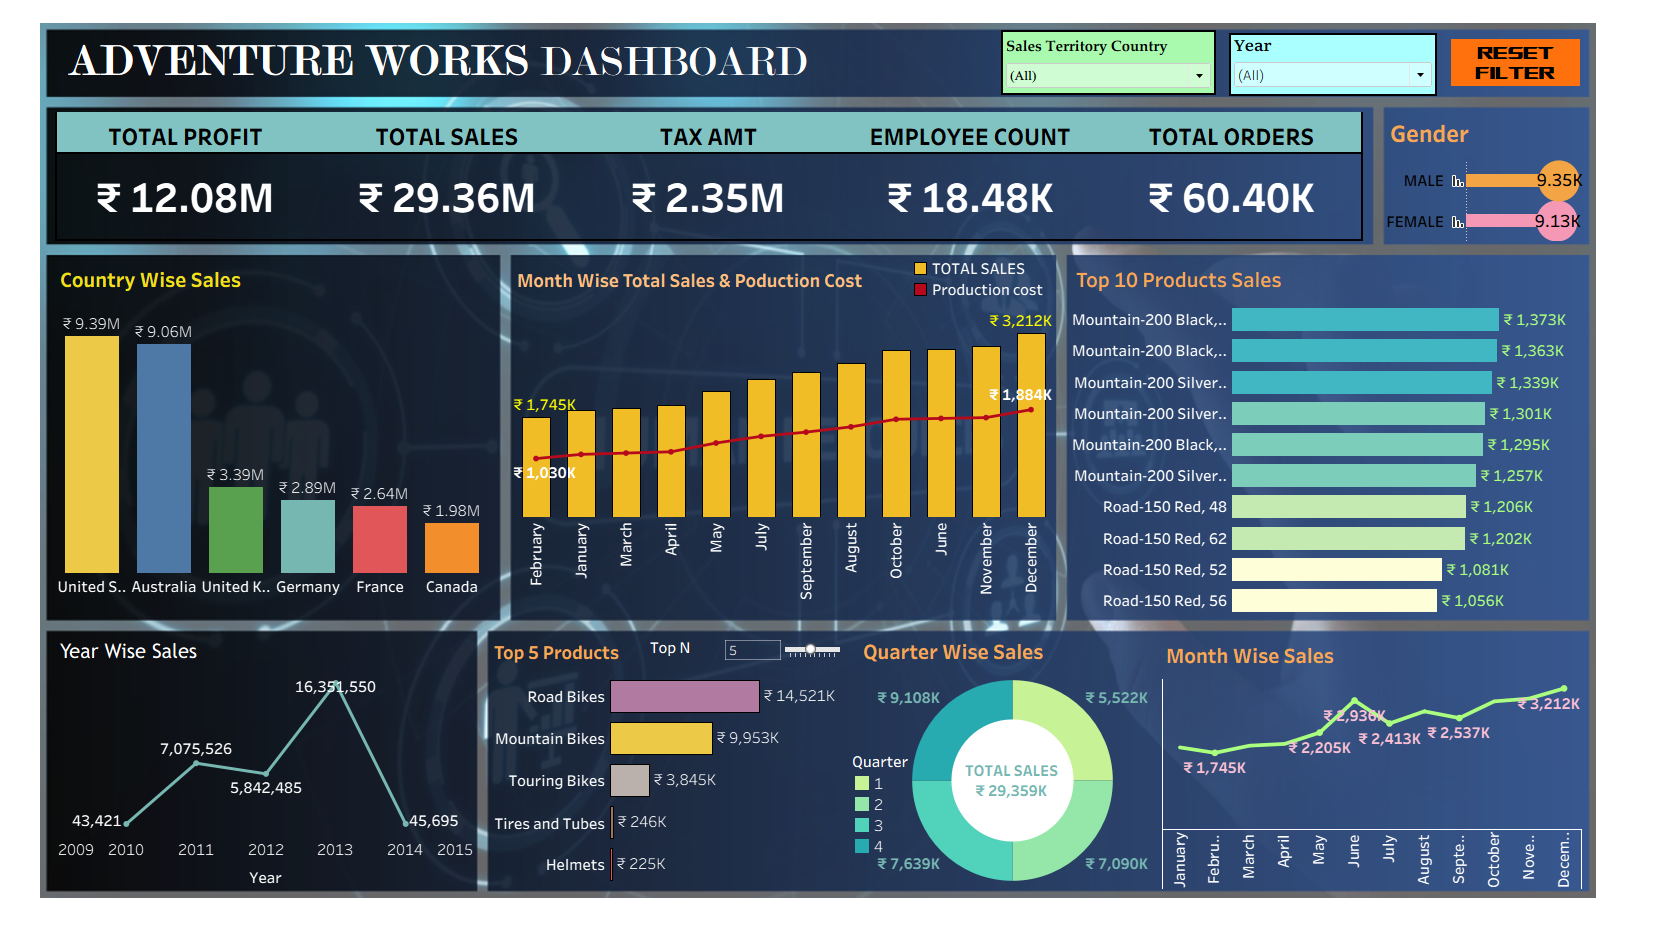

The dashboard page shown, as its layout file describes it:
{"tool":"tableau","page":{"name":"DASHBOARD ","canvas":[1580,900],"ordinal":0},"visuals":[{"type":"image","param":"Image/HRB background.pptx.png","box":[8,8,1564,884]},{"type":"filter","title":"Sheet 3","param":"[federated.199qoxv1eyxjs612688t40wgwc35].[none:SalesTerritoryCountry:nk]","box":[973,19,215,65]},{"type":"filter","title":"Sheet 3","param":"[federated.199qoxv1eyxjs612688t40wgwc35].[none:Year:ok]","box":[1201,22,208,63]},{"type":"text","box":[36,28,866,45]},{"type":"worksheet","title":"Sheet 18","mark":"Automatic","box":[1423,28,129,47]},{"type":"worksheet","title":"Sheet 15","mark":"Automatic","box":[26,100,1309,130]},{"type":"worksheet","title":"Sheet 16","mark":"Automatic","rows":["Gender"],"cols":["Gender","Gender"],"box":[1358,102,199,128]},{"type":"legend","title":"Sheet 9","param":"[federated.199qoxv1eyxjs612688t40wgwc35].[:Measure Names]","box":[882,247,143,50]},{"type":"worksheet","title":"Sheet 3","mark":"Automatic","rows":["Sales"],"cols":["SalesTerritoryCountry"],"box":[28,250,433,353]},{"type":"worksheet","title":"Sheet 6","mark":"Automatic","rows":["EnglishProductName"],"cols":["Sales"],"box":[1044,250,511,355]},{"type":"worksheet","title":"Sheet 9","mark":"Bar","rows":["Sales","Production cost"],"cols":["Month Name"],"box":[485,252,541,355]},{"type":"worksheet","title":"Sheet 17","mark":"Pie","rows":["Calculation_1315051127654379521","Calculation_1315051127654395907"],"box":[831,622,307,253]},{"type":"worksheet","title":"Sheet 7","mark":"Automatic","rows":["Sales"],"cols":["Year"],"box":[28,624,419,260]},{"type":"worksheet","title":"Sheet 8","mark":"Automatic","rows":["DimProdSubCategory.EnglishProductSubcategoryName"],"cols":["Sales"],"box":[462,624,356,251]},{"type":"parameter","param":"[Parameters].[Parameter 1]","box":[622,626,193,32]},{"type":"worksheet","title":"Sheet 1","mark":"Line","rows":["Sales"],"cols":["Month Name"],"box":[1134,626,420,253]},{"type":"legend","title":"Sheet 17","param":"[federated.199qoxv1eyxjs612688t40wgwc35].[none:Quarter:ok]","box":[824,740,70,106]}]}

Visuals, with their boxes in screenshot pixels (x1, y1, x2, y2), scaled from the page's 1580x900 canvas onto the 1658x931 screenshot:
image: select_region(8, 8, 1650, 923)
"Sheet 3" filter: select_region(1021, 20, 1247, 87)
"Sheet 3" filter: select_region(1260, 23, 1479, 88)
text: select_region(38, 29, 947, 76)
"Sheet 18" worksheet: select_region(1493, 29, 1629, 78)
"Sheet 15" worksheet: select_region(27, 103, 1401, 238)
"Sheet 16" worksheet: select_region(1425, 106, 1634, 238)
"Sheet 9" legend: select_region(926, 256, 1076, 307)
"Sheet 3" worksheet: select_region(29, 259, 484, 624)
"Sheet 6" worksheet: select_region(1096, 259, 1632, 626)
"Sheet 9" worksheet (Bar marks): select_region(509, 261, 1077, 628)
"Sheet 17" worksheet (Pie marks): select_region(872, 643, 1194, 905)
"Sheet 7" worksheet: select_region(29, 645, 469, 914)
"Sheet 8" worksheet: select_region(485, 645, 858, 905)
parameter: select_region(653, 648, 855, 681)
"Sheet 1" worksheet (Line marks): select_region(1190, 648, 1631, 909)
"Sheet 17" legend: select_region(865, 765, 938, 875)
